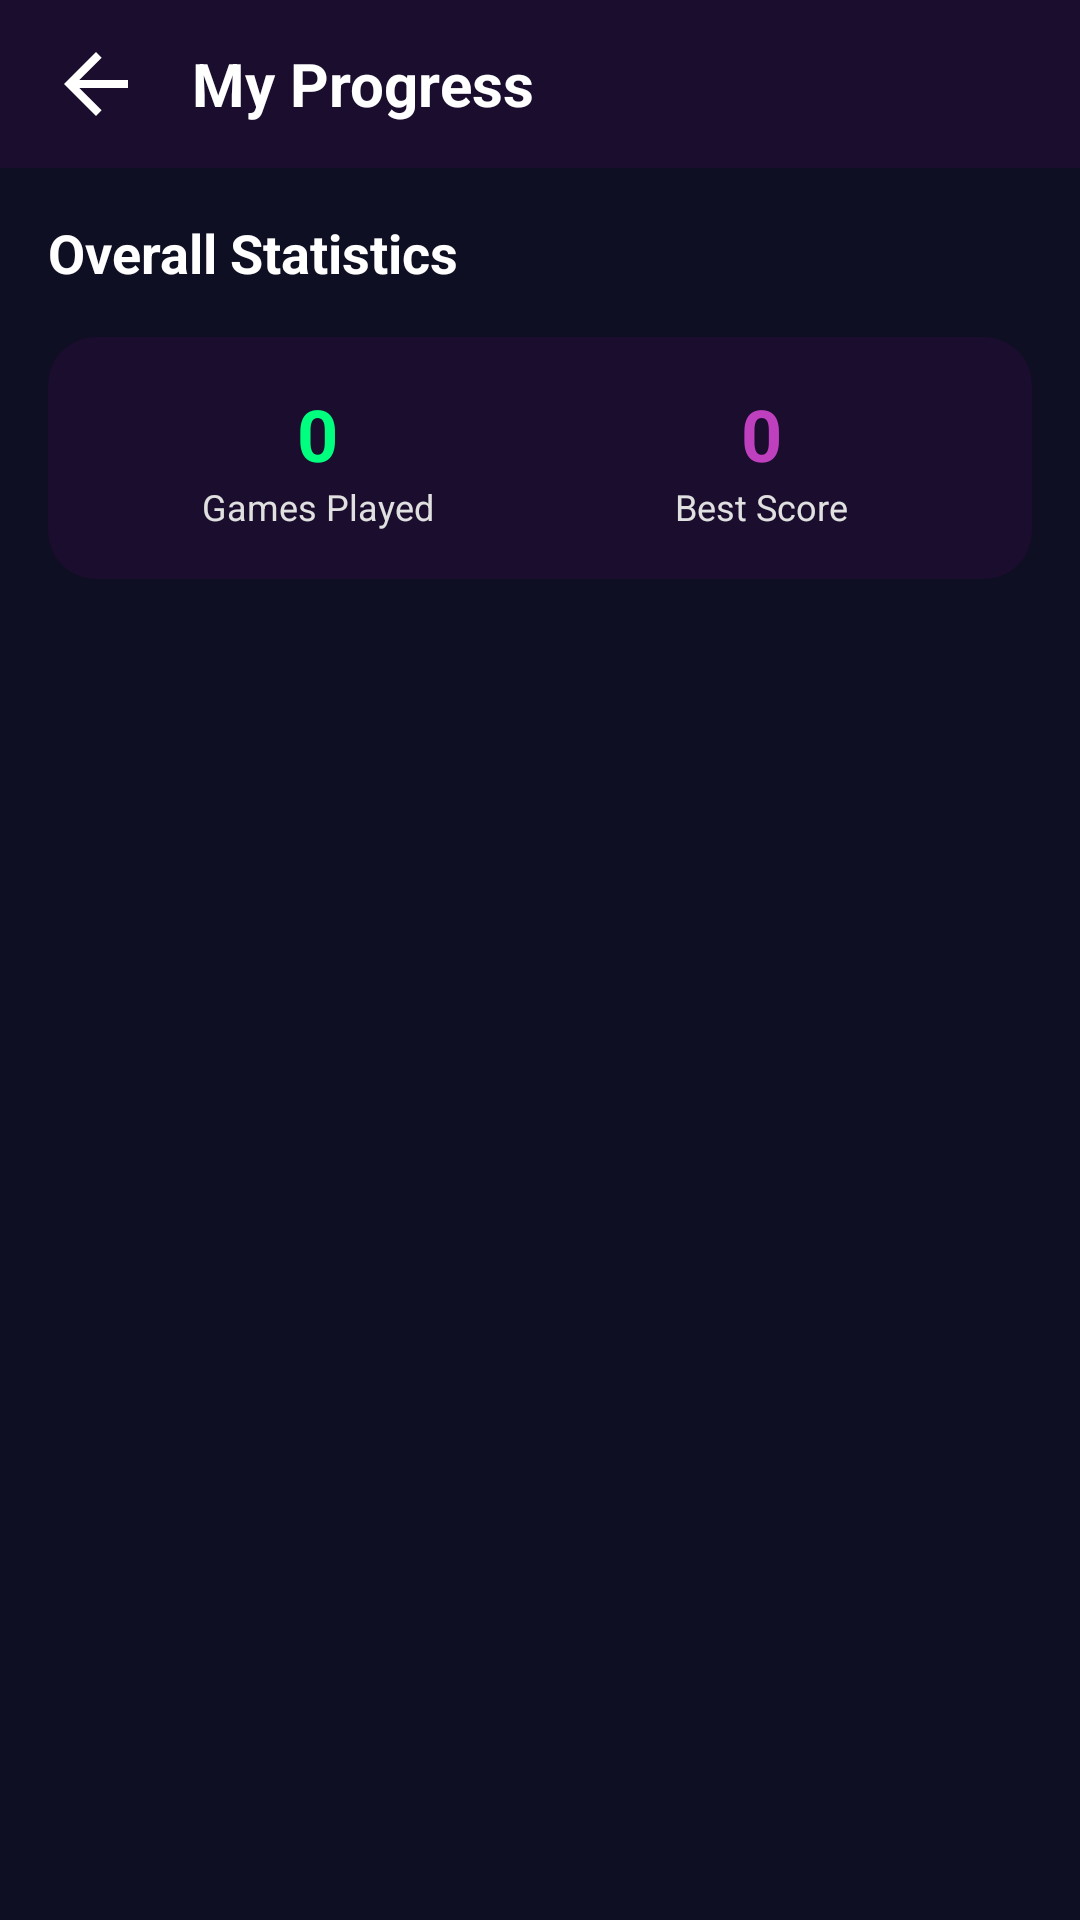

Screen size 1080x1920. Icon name, then its center in pixels as (x,y):
Back: (96,84)
